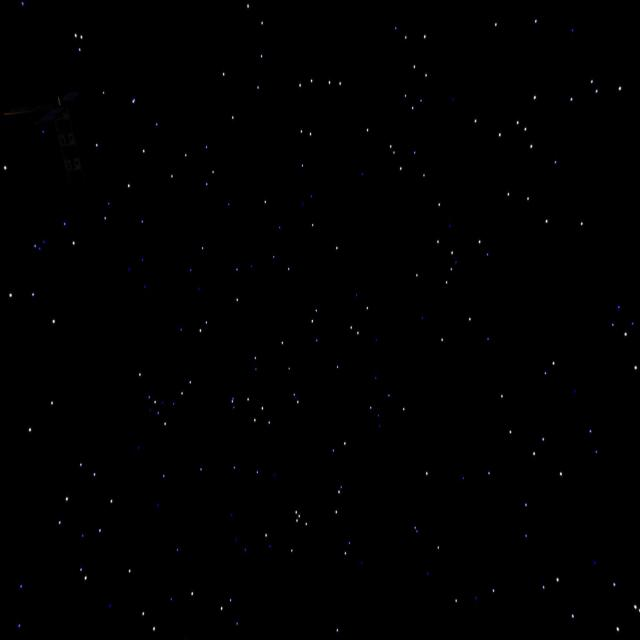medium_debris: (7, 59, 129, 210)
